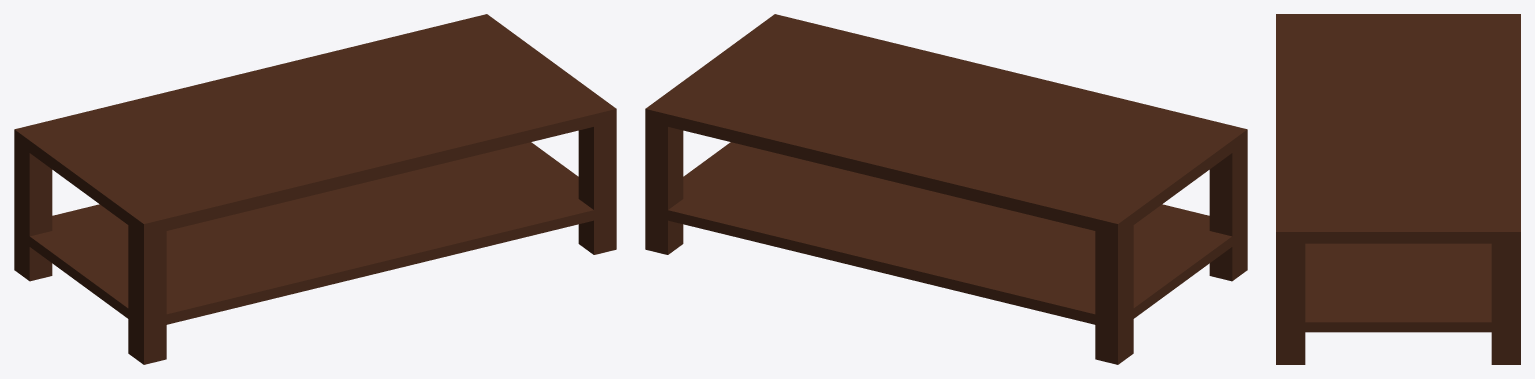
File: TvTable.fbx
The picture shows the model from 3 angles, left to right: view 1: azimuth 30°, elevation 25°; view 2: azimuth 150°, elevation 25°; view 3: azimuth 270°, elevation 25°; orthographic projection. The views are drawn at different scales.
Parts seen in each view (by area): view 1: TvTable; view 2: TvTable; view 3: TvTable.
Part boxes in pixels (x1=…): TvTable: x1=14, y1=14, x2=616, y2=364; TvTable: x1=645, y1=14, x2=1247, y2=364; TvTable: x1=1276, y1=14, x2=1520, y2=364.
Bounding box in the file's own units: 0.6912 × 0.3282 × 0.1967.
